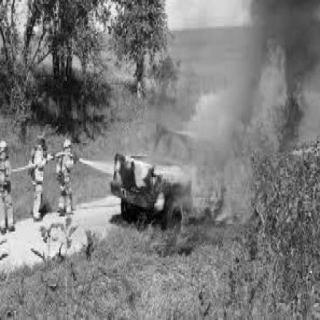Smoke: (186, 93, 223, 163), (248, 3, 314, 37)
other: (0, 137, 17, 237), (58, 134, 74, 197), (33, 126, 47, 144)
